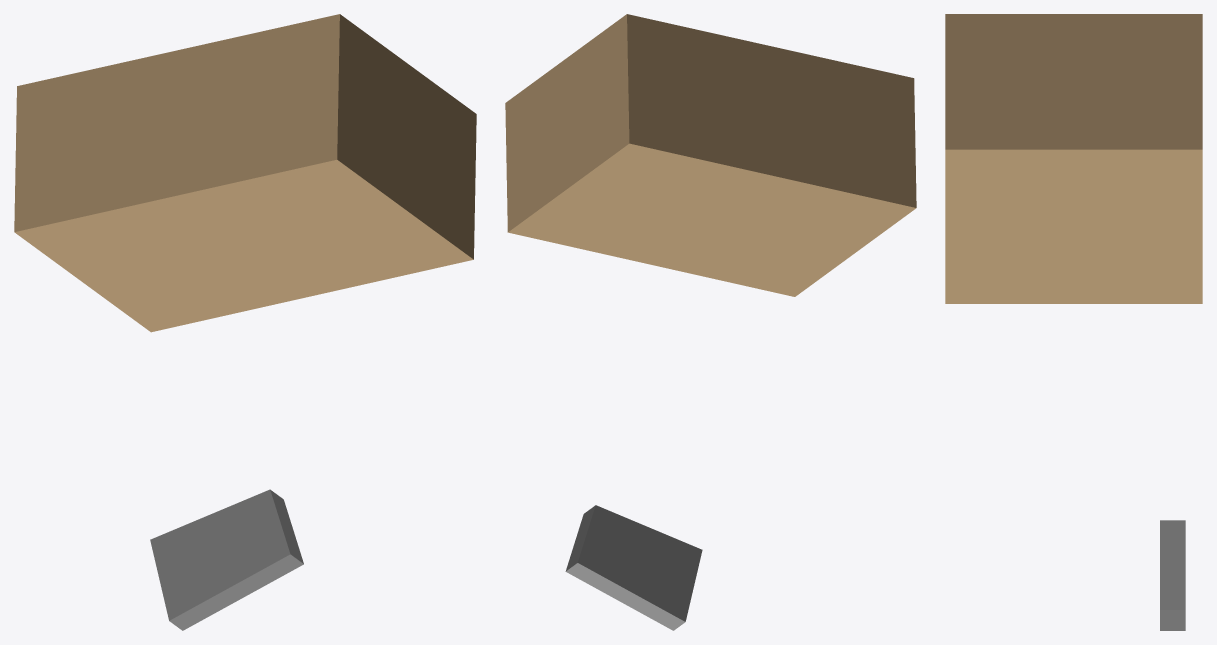
3 renders of one model, left to right at view 1: azimuth 30°, elevation 25°; view 2: azimuth 150°, elevation 25°; view 3: azimuth 270°, elevation 25°, orthographic. The views are drawn at different scales.
Parts seen in each view (by area): view 1: 0_0_3_1_2_3_1_3; view 2: 0_0_3_1_2_3_1_3; view 3: 0_0_3_1_2_3_1_3.
Part boxes in pixels (x1=…): 0_0_3_1_2_3_1_3: x1=14, y1=14, x2=476, y2=630; 0_0_3_1_2_3_1_3: x1=505, y1=14, x2=916, y2=630; 0_0_3_1_2_3_1_3: x1=945, y1=14, x2=1202, y2=630.
Size of the model in its own units: 41.25 by 68.14 by 30.
